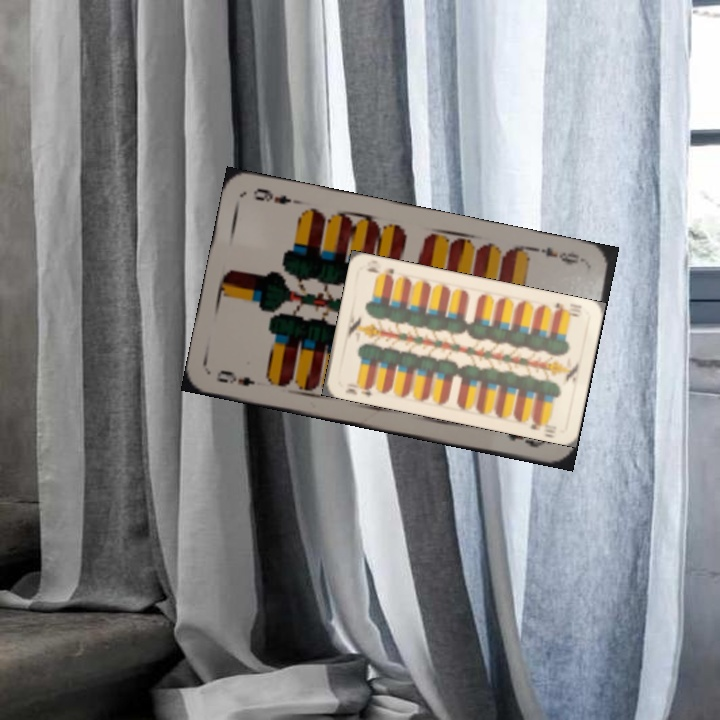E10: (550, 298, 585, 319), (341, 379, 377, 399)
E9: (531, 243, 589, 268), (213, 366, 258, 389)
